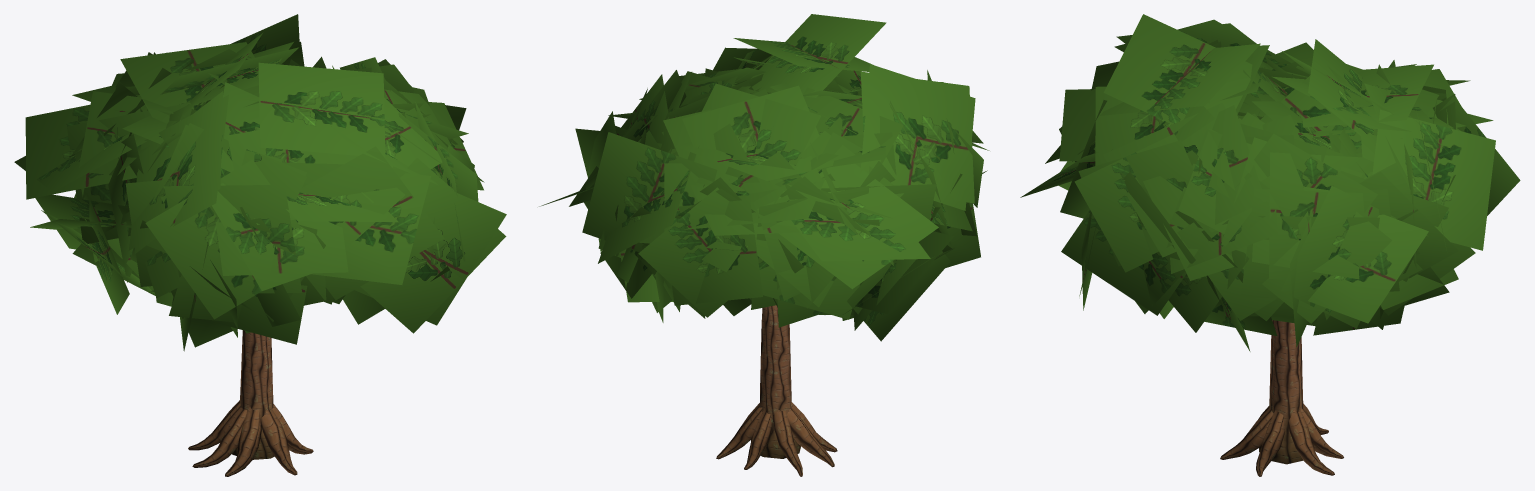
File: tree_b_lod.glb
The picture shows the model from 3 angles, left to right: view 1: azimuth 30°, elevation 25°; view 2: azimuth 150°, elevation 25°; view 3: azimuth 270°, elevation 25°; orthographic projection. The views are drawn at different scales.
Visible parts, largest first — view 1: Leaves, Roots, Trunk; view 2: Leaves, Roots, Trunk; view 3: Leaves, Roots, Trunk.
Boxes of the visible parts, x1,y1,x2,y2 form: Leaves: (14, 14, 506, 351); Roots: (188, 400, 313, 476); Trunk: (232, 330, 274, 459); Leaves: (539, 14, 989, 341); Roots: (716, 402, 837, 476); Trunk: (751, 305, 800, 458); Leaves: (1020, 14, 1520, 351); Roots: (1220, 403, 1343, 476); Trunk: (1259, 320, 1303, 464).
Size of the model in its own units: 6.75 by 6.49 by 7.03.
Materials: 2 (2 with a texture image).
